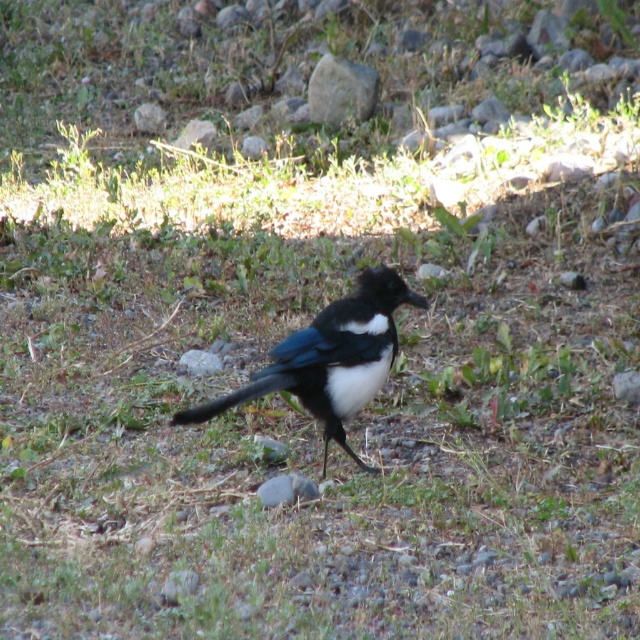Magpie: (171, 263, 429, 480)
